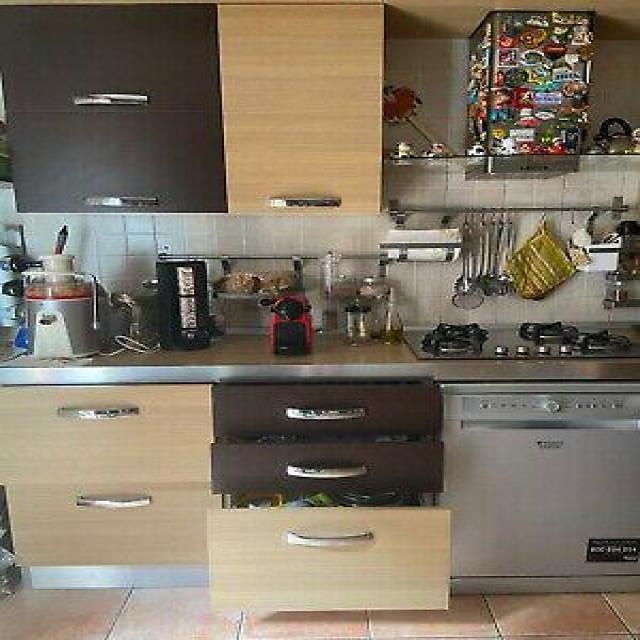dishwasher: (435, 373, 640, 598)
